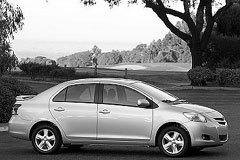car: (8, 78, 231, 160)
